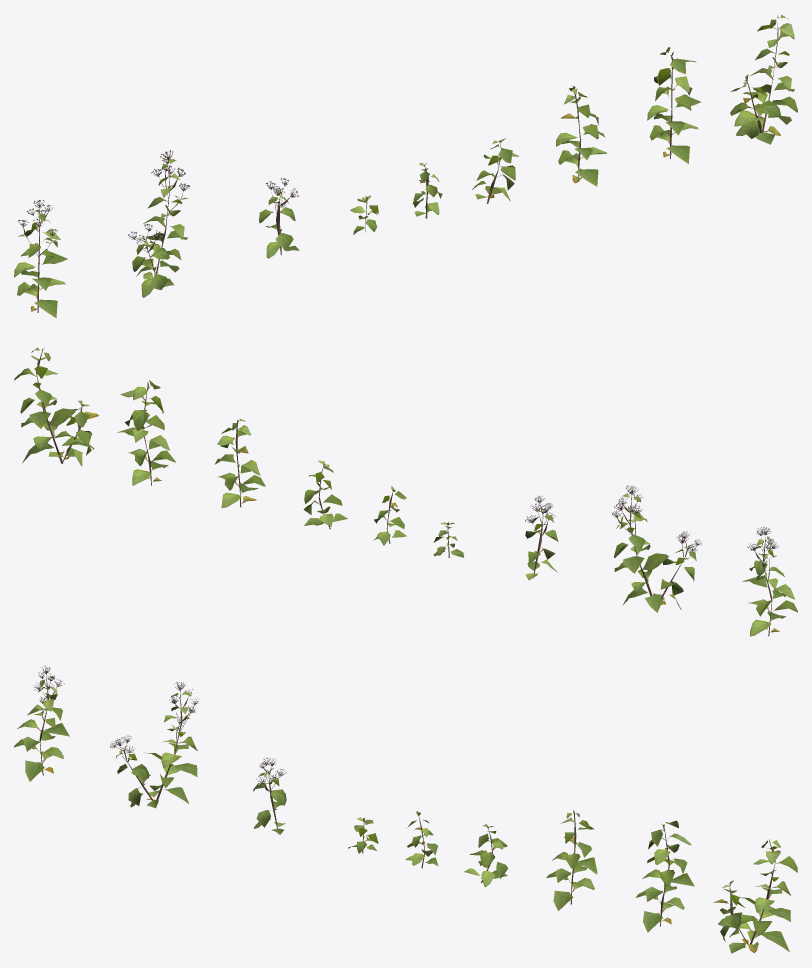
Rendered from shrub.glb.
3 views of the same model, one above another, from view 1: azimuth 30°, elevation 25°; view 2: azimuth 150°, elevation 25°; view 3: azimuth 330°, elevation 25° (orthographic). The views are drawn at different scales.
Parts seen in each view (by area): view 1: shrub_01_a; view 2: shrub_01_a; view 3: shrub_01_a.
Part boxes in pixels (x1,y1,x2,y2): shrub_01_a: (14, 14, 797, 318); shrub_01_a: (14, 347, 797, 636); shrub_01_a: (14, 665, 797, 953).
Size of the model in its own units: 2.59 by 0.4006 by 0.2222.
Materials: 1 (1 with a texture image).
